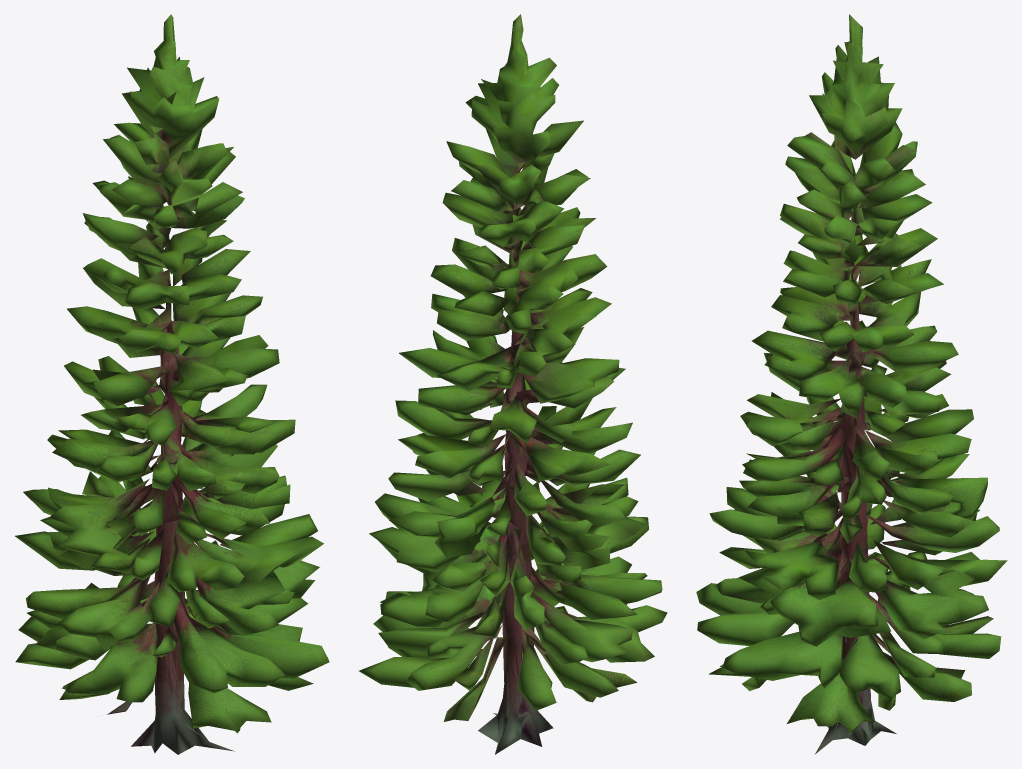
Rendered from tree_pine.glb.
3 renders of one model, left to right at view 1: azimuth 30°, elevation 25°; view 2: azimuth 150°, elevation 25°; view 3: azimuth 270°, elevation 25°, orthographic. The views are drawn at different scales.
Visible parts, largest first — view 1: Mesh_0; view 2: Mesh_0; view 3: Mesh_0.
Boxes of the visible parts, bbox=[...] form: Mesh_0: bbox=[15, 14, 329, 754]; Mesh_0: bbox=[359, 14, 667, 754]; Mesh_0: bbox=[696, 14, 1007, 754].
Size of the model in its own units: 0.7589 by 2 by 0.7838.
Materials: 1 (1 with a texture image).
